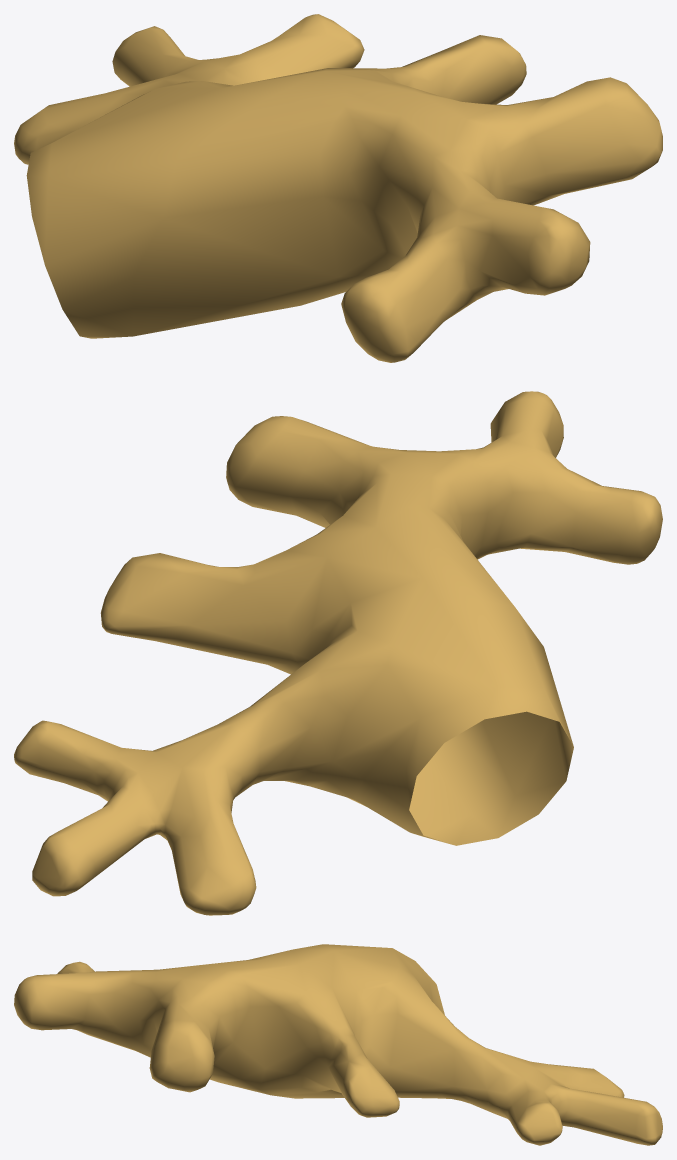
3 views of the same model, one above another, from view 1: azimuth 30°, elevation 25°; view 2: azimuth 150°, elevation 25°; view 3: azimuth 270°, elevation 25° (orthographic). The views are drawn at different scales.
Parts seen in each view (by area): view 1: 左侧肾盂; view 2: 左侧肾盂; view 3: 左侧肾盂.
Boxes of the visible parts, x1,y1,x2,y2 form: 左侧肾盂: (14,14,662,362); 左侧肾盂: (14,391,662,915); 左侧肾盂: (14,944,662,1145).
Size of the model in its own units: 0.0636 by 0.0331 by 0.1097.
